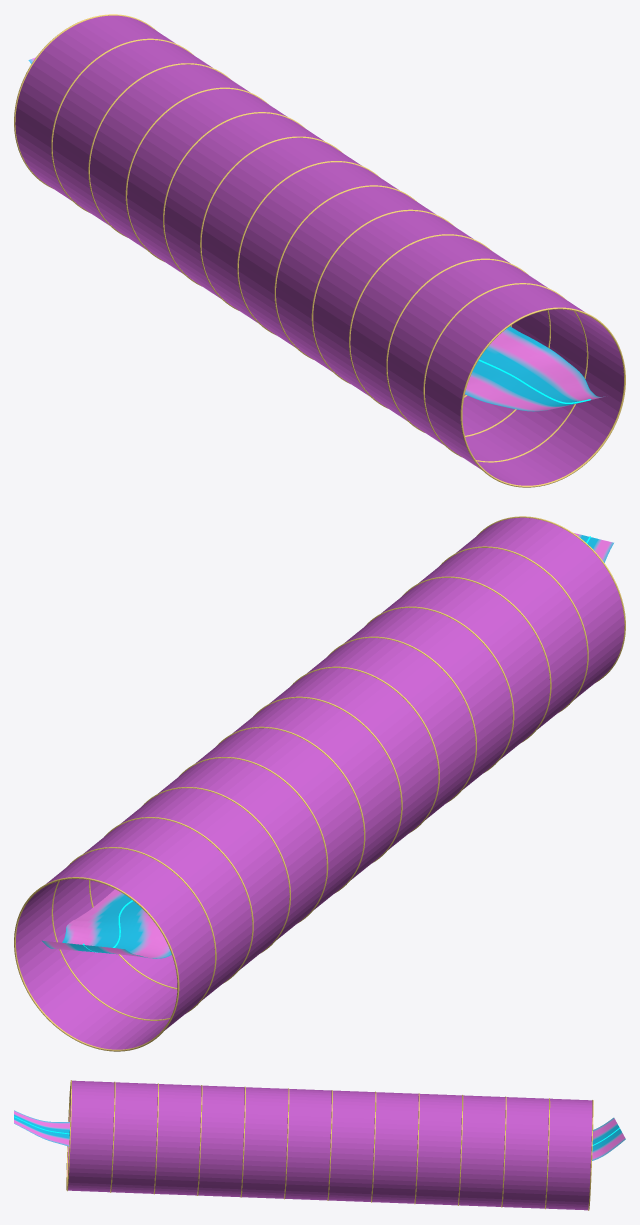
Rendered from screen05_layout.glb.
3 views of the same model, one above another, from view 1: azimuth 30°, elevation 25°; view 2: azimuth 150°, elevation 25°; view 3: azimuth 270°, elevation 25° (orthographic). The views are drawn at different scales.
Visible parts, largest first — view 1: Tunnel05, River05, RingMark05_00, RingMark05_01, RingMark05_02; view 2: Tunnel05, River05, RingMark05_12, RingMark05_11, RingMark05_10; view 3: Tunnel05, River05, RingMark05_00, RingMark05_04, RingMark05_06, RingMark05_08, RingMark05_01, RingMark05_12, RingMark05_03, RingMark05_10, RingMark05_05, RingMark05_07.
Boxes of the visible parts, left/top/right/bottom form: Tunnel05: left=15, top=15, right=623, bottom=485; River05: left=28, top=57, right=605, bottom=411; RingMark05_00: left=460, top=307, right=625, bottom=487; RingMark05_01: left=423, top=283, right=588, bottom=462; RingMark05_02: left=386, top=258, right=550, bottom=436; Tunnel05: left=16, top=517, right=624, bottom=1049; River05: left=42, top=533, right=613, bottom=958; RingMark05_12: left=14, top=877, right=179, bottom=1051; RingMark05_11: left=51, top=847, right=216, bottom=1020; RingMark05_10: left=89, top=817, right=253, bottom=989; Tunnel05: left=67, top=1080, right=592, bottom=1210; River05: left=14, top=1110, right=625, bottom=1160; RingMark05_00: left=66, top=1080, right=71, bottom=1191; RingMark05_04: left=240, top=1086, right=245, bottom=1197; RingMark05_06: left=327, top=1090, right=332, bottom=1200; RingMark05_08: left=414, top=1093, right=419, bottom=1204; RingMark05_01: left=110, top=1081, right=115, bottom=1192; RingMark05_12: left=588, top=1100, right=593, bottom=1210; RingMark05_03: left=197, top=1085, right=202, bottom=1195; RingMark05_10: left=501, top=1096, right=506, bottom=1207; RingMark05_05: left=284, top=1088, right=289, bottom=1199; RingMark05_07: left=371, top=1091, right=376, bottom=1202.
Size of the model in its own units: 15.36 by 18.34 by 84.42.
